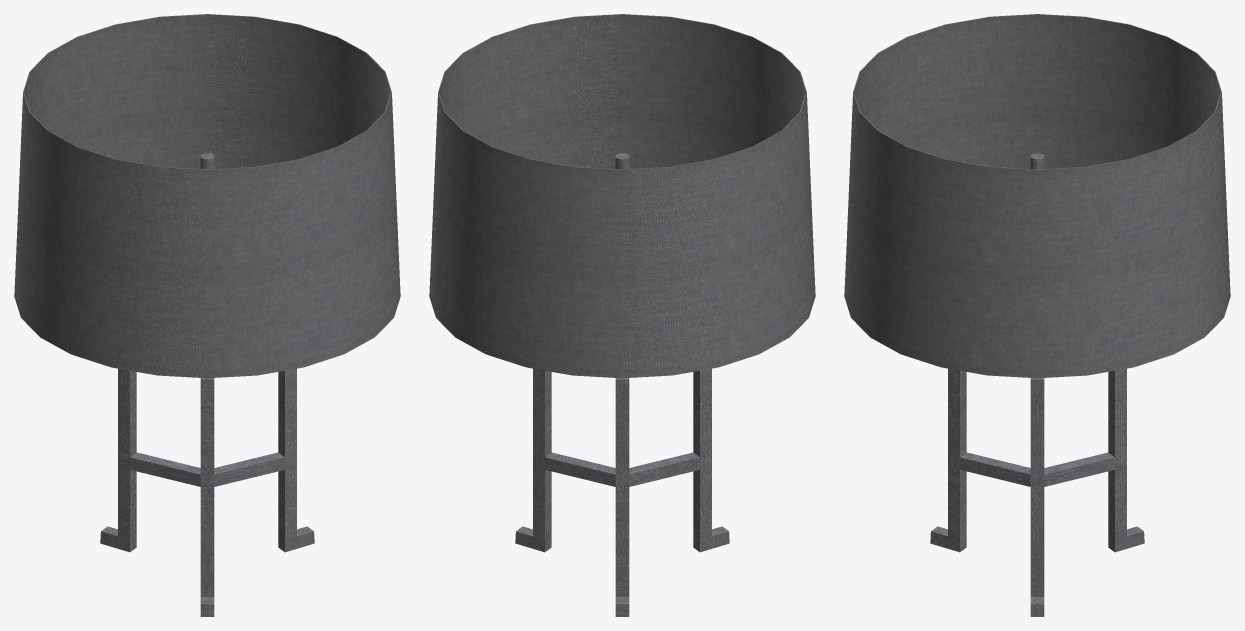
File: taideng01.fbx
The picture shows the model from 3 angles, left to right: view 1: azimuth 30°, elevation 25°; view 2: azimuth 150°, elevation 25°; view 3: azimuth 270°, elevation 25°; orthographic projection.
Parts seen in each view (by area): view 1: taideng01; view 2: taideng01; view 3: taideng01.
Part boxes in pixels (<box>): taideng01: <box>14,14,400,616</box>; taideng01: <box>429,14,815,616</box>; taideng01: <box>844,14,1230,616</box>.
Bounding box in the file's own units: 33.96 × 46.18 × 33.96.
